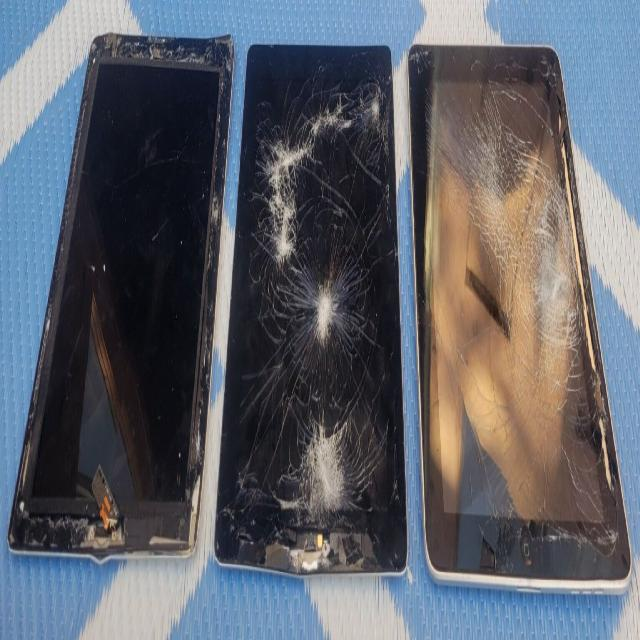Crack: (401, 44, 635, 595), (9, 19, 237, 561), (223, 41, 413, 561)
